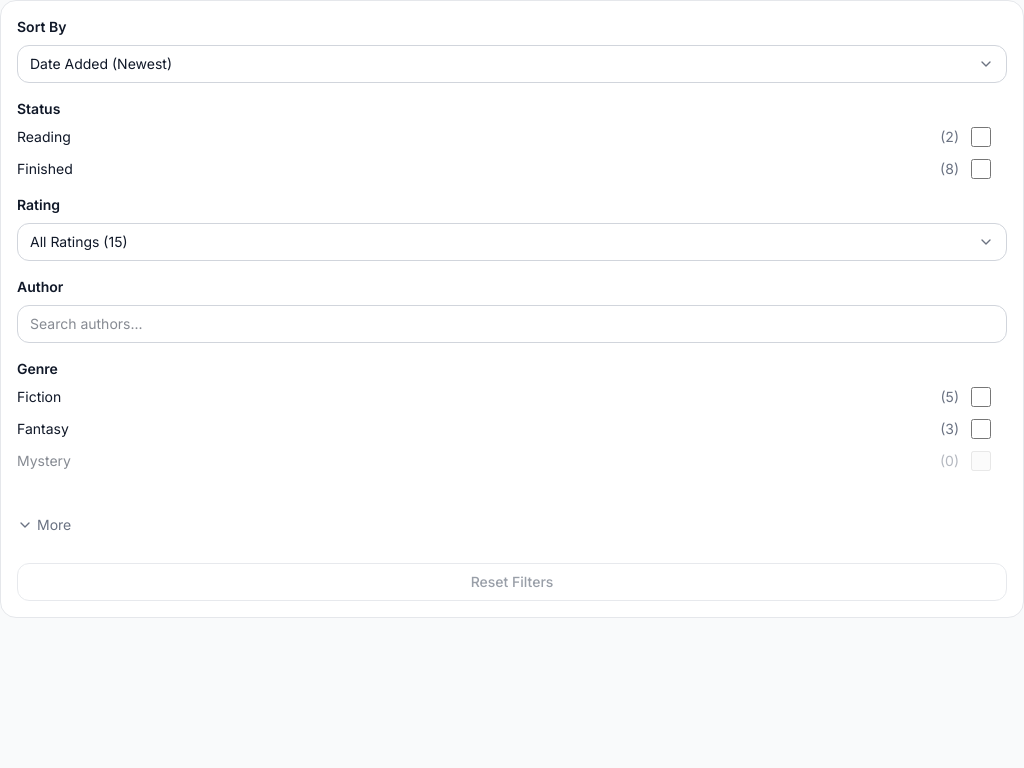
Test case: FilterSidebar › author filter › shows authors in dropdown when focused
Step 1. Focus the dropdown labelled "Author" → (512, 324), box [17,305,1007,343]
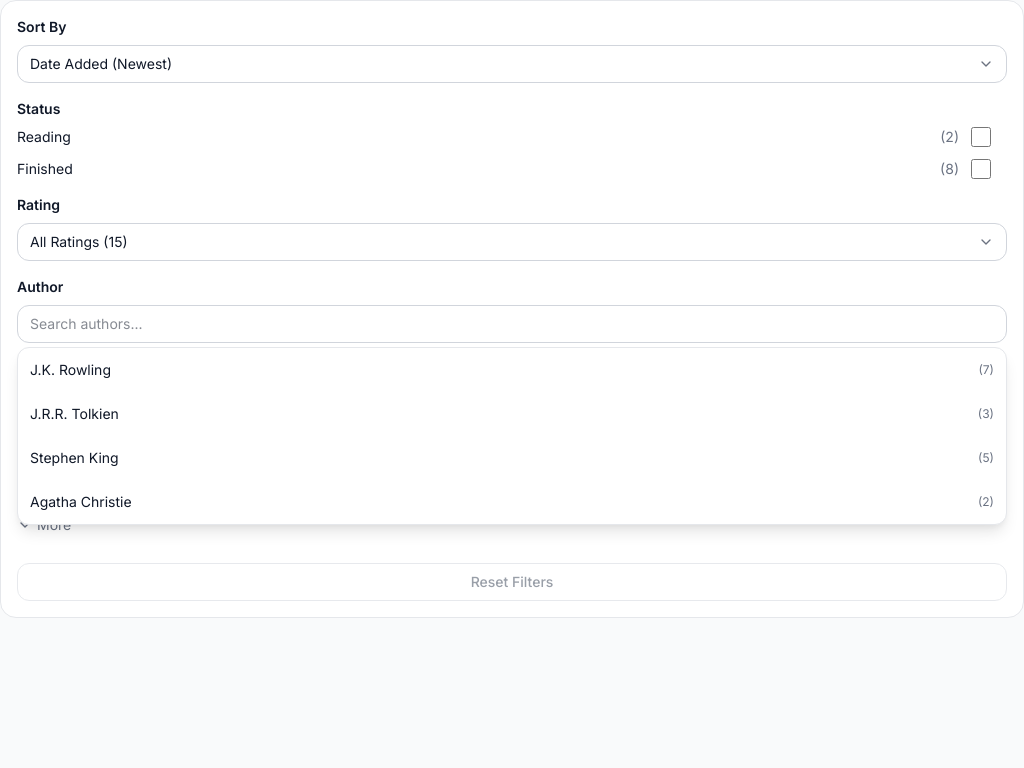
expect the text "J.K. Rowling" is shown: met, box [30,360,111,380]
